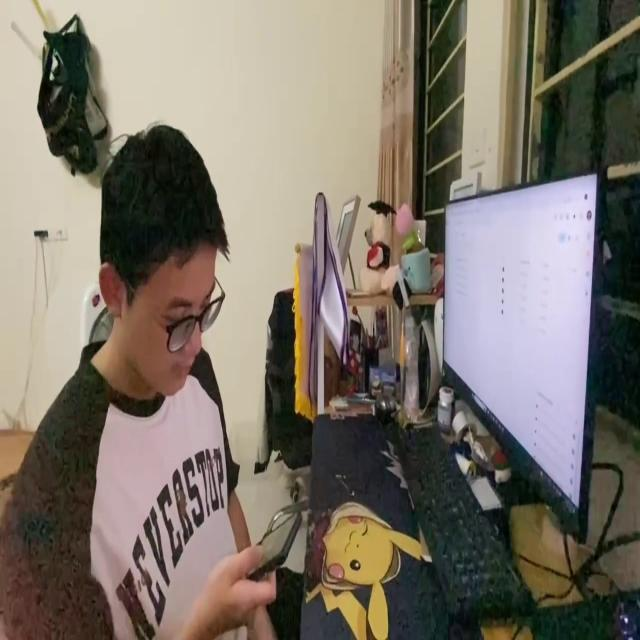laptop: (437, 160, 621, 554)
phone: (245, 515, 301, 577)
student: (4, 122, 298, 640)
